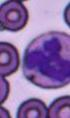N: (22, 30, 70, 88)
